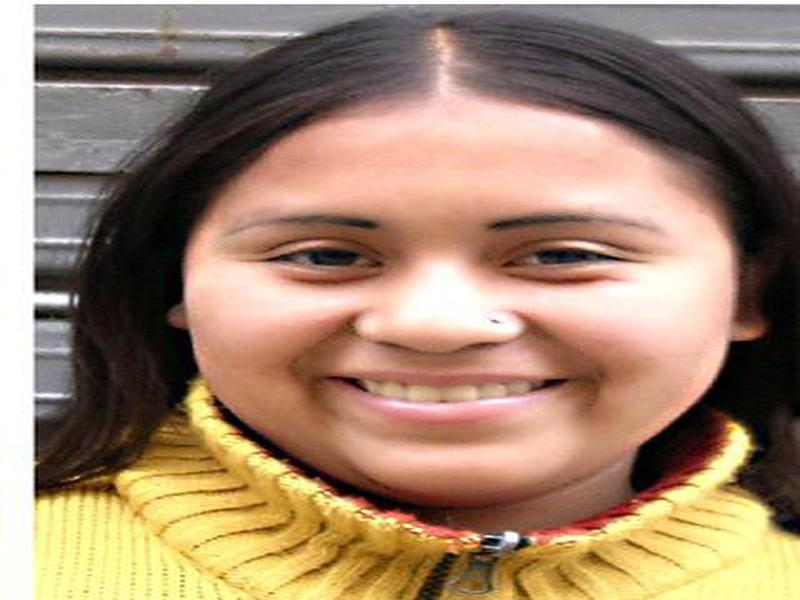without_mask: (182, 134, 733, 506)
